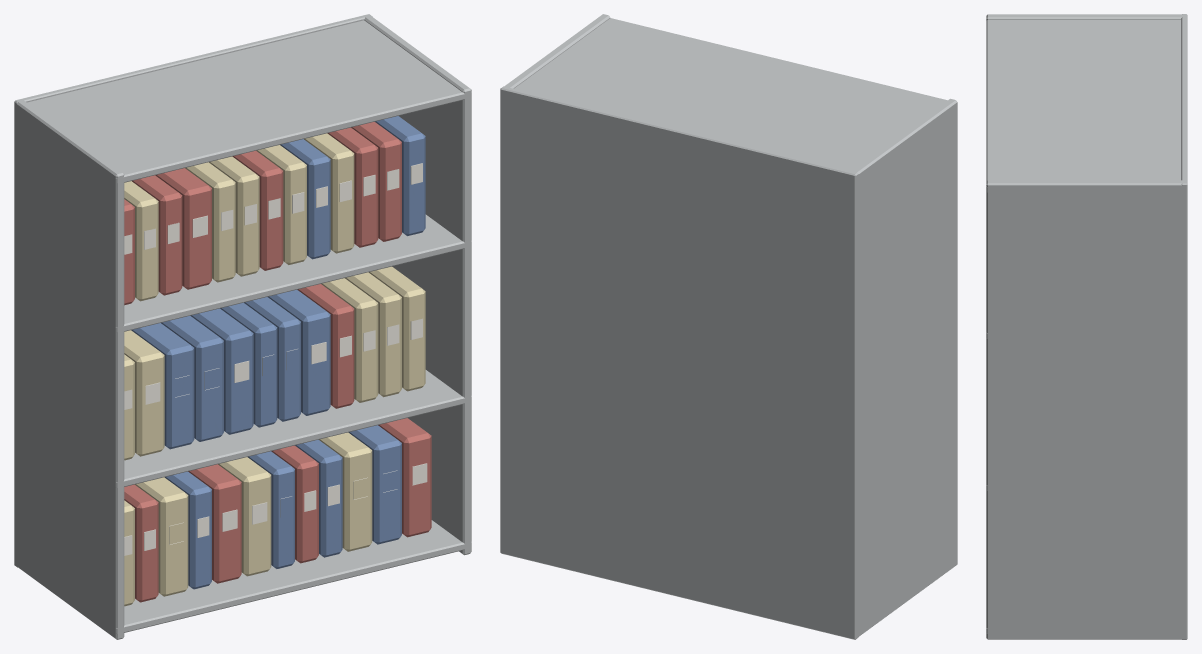
Rendered from records_shelf.glb.
3 views of the same model, side by side, from view 1: azimuth 30°, elevation 25°; view 2: azimuth 150°, elevation 25°; view 3: azimuth 270°, elevation 25° (orthographic).
Parts seen in each view (by area): view 1: records_shelf; view 2: records_shelf; view 3: records_shelf.
Part boxes in pixels (x1,y1,x2,y2): records_shelf: (14, 14, 471, 639); records_shelf: (500, 14, 957, 639); records_shelf: (986, 14, 1187, 639).
Bounding box in the file's own units: 1.2 × 1.5 × 0.6.
